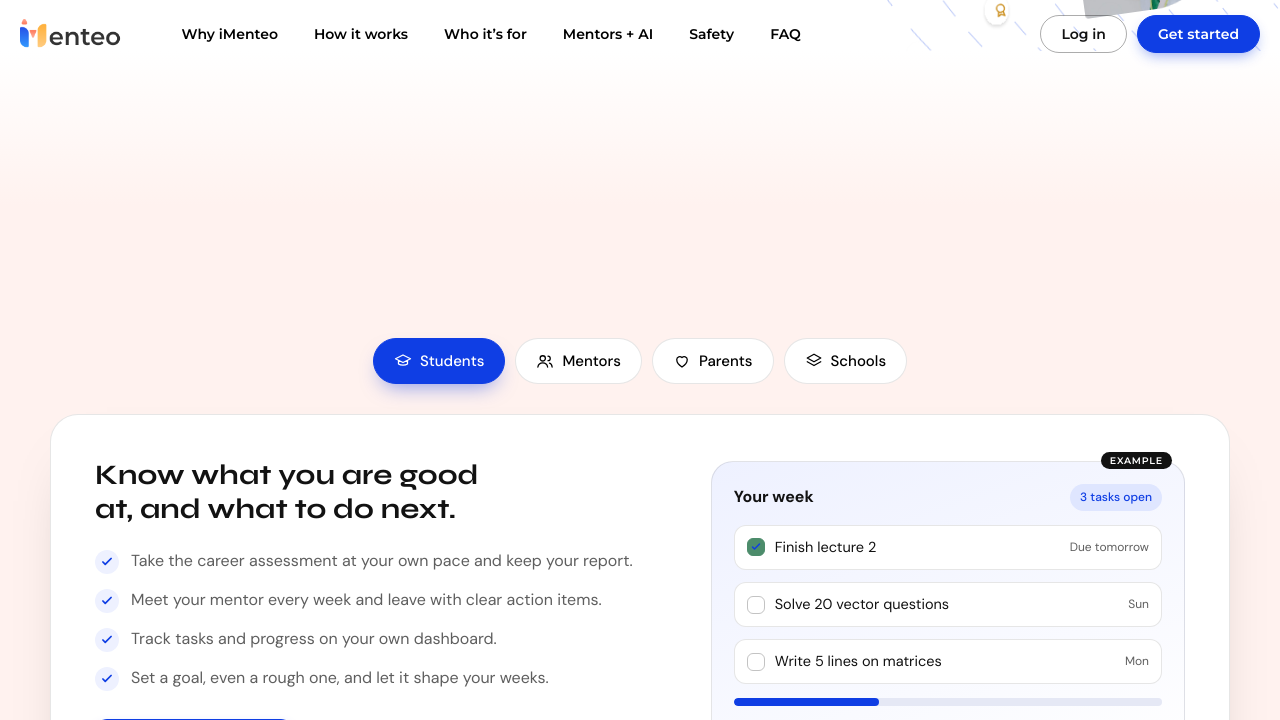
Scenario: landing page v2 › switches the role tabs and shows that role's content
(page scrolled)
Expected: the tab "Students" is shown, [373, 338, 505, 384]
Click the tab "Parents". click: (713, 361)
box: [652, 338, 774, 384]
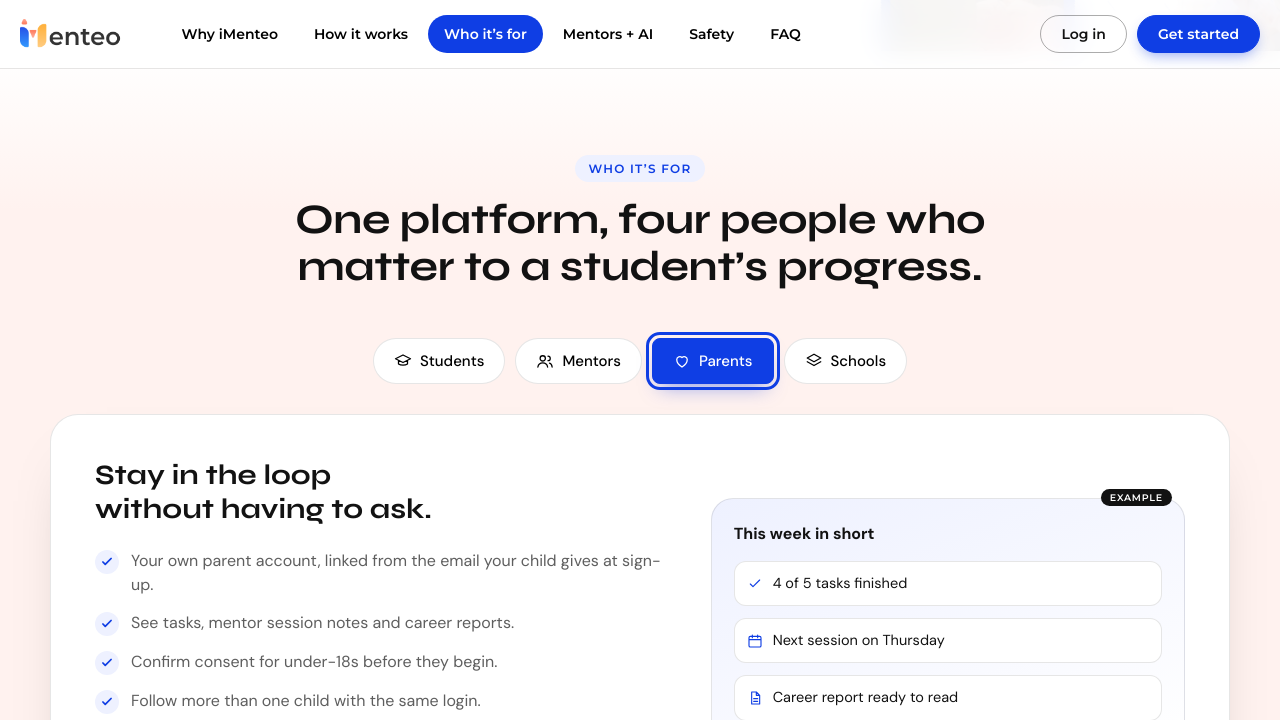
Expected: the heading "Stay in the loop without having to ask." is shown, [95, 458, 432, 526]
Click the tab "Schools". click: (845, 361)
box: [784, 338, 907, 384]
(page scrolled)
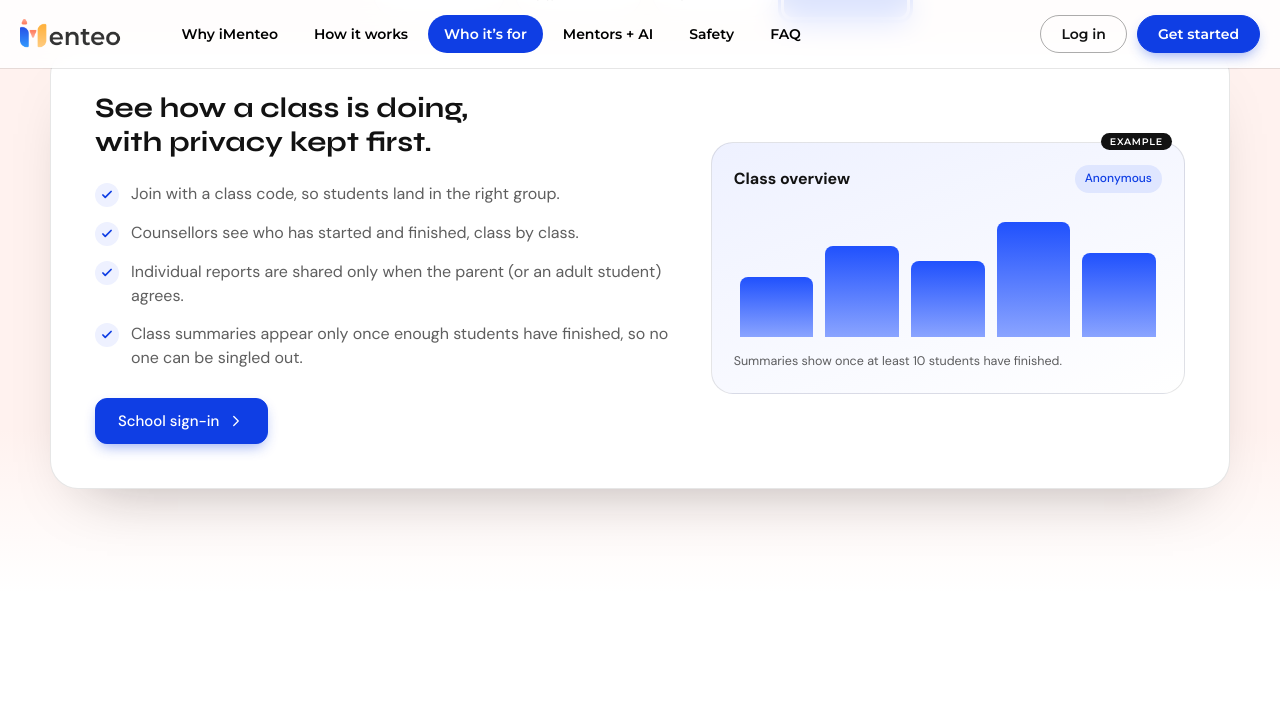
Expected: the text "Summaries show once at least 10 students have finished." is shown, [734, 352, 1062, 368]
